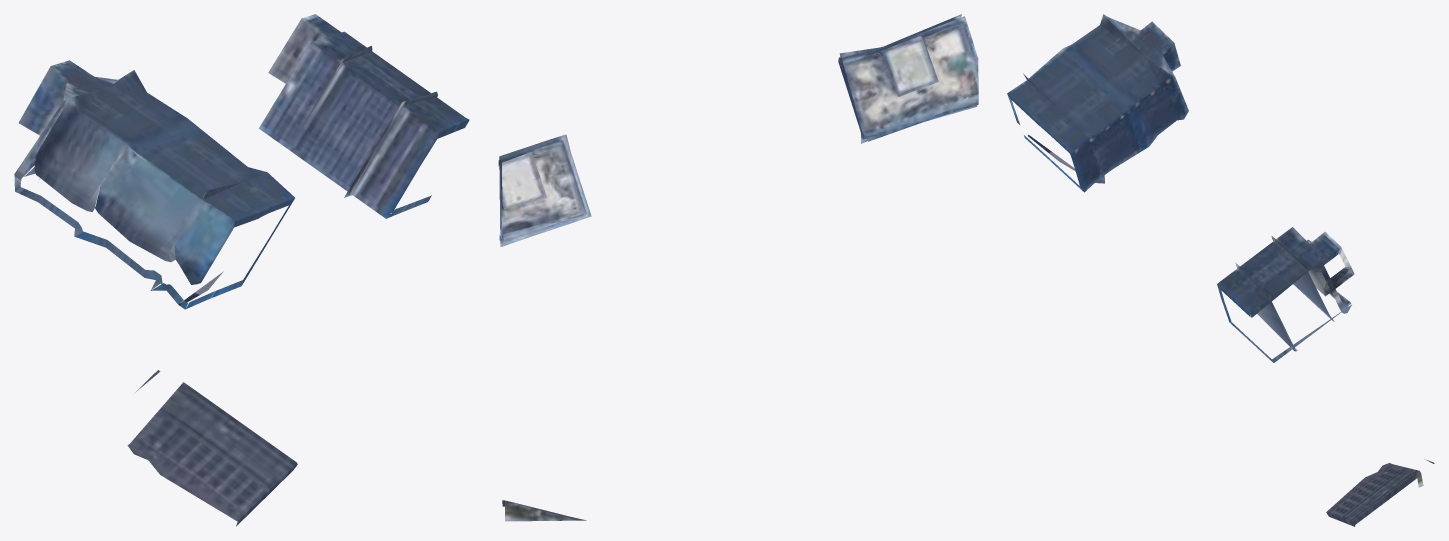
3 views of the same model, side by side, from view 1: azimuth 30°, elevation 25°; view 2: azimuth 150°, elevation 25°; view 3: azimuth 270°, elevation 25° (orthographic). The views are drawn at different scales.
Bounding box in the file's own units: 136 × 152 × 148.
Materials: 1 (1 with a texture image).
